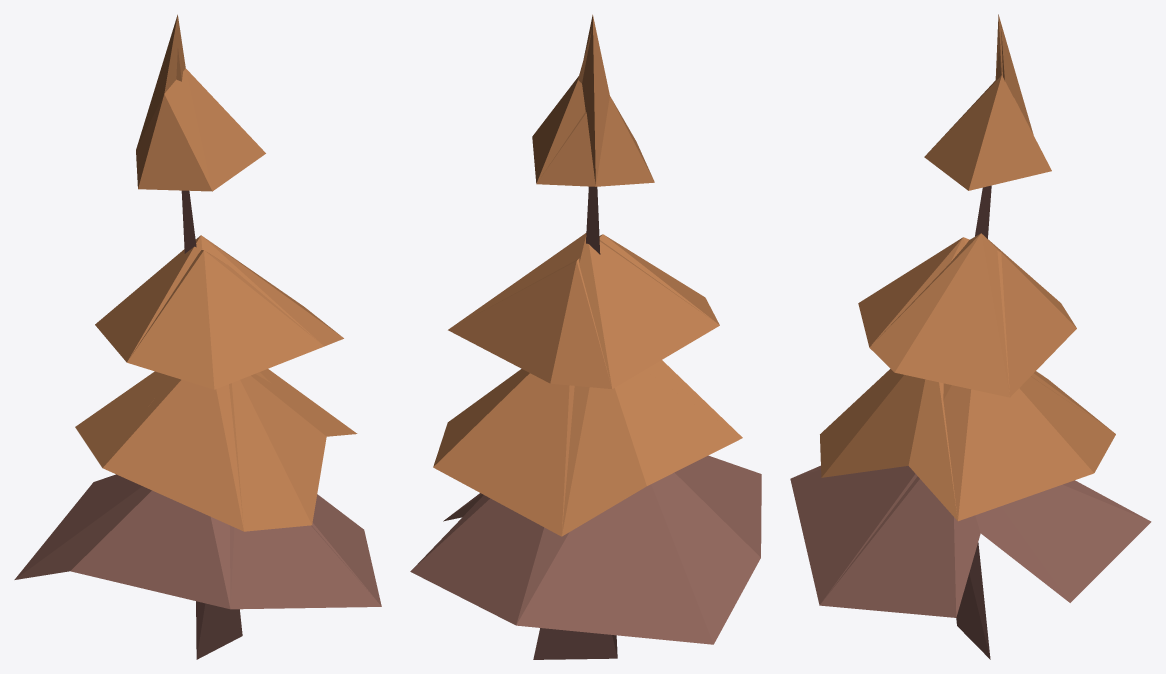
The model's file is PineTree_Autumn_2.lod3.glb.
3 views of the same model, side by side, from view 1: azimuth 30°, elevation 25°; view 2: azimuth 150°, elevation 25°; view 3: azimuth 270°, elevation 25° (orthographic). The views are drawn at different scales.
Parts seen in each view (by area): view 1: PineTree_Autumn_2; view 2: PineTree_Autumn_2; view 3: PineTree_Autumn_2.
Part boxes in pixels (x1=…): PineTree_Autumn_2: x1=14, y1=14, x2=381, y2=659; PineTree_Autumn_2: x1=410, y1=14, x2=761, y2=659; PineTree_Autumn_2: x1=790, y1=14, x2=1151, y2=659.
Size of the model in its own units: 1.79 by 3.57 by 1.9.
